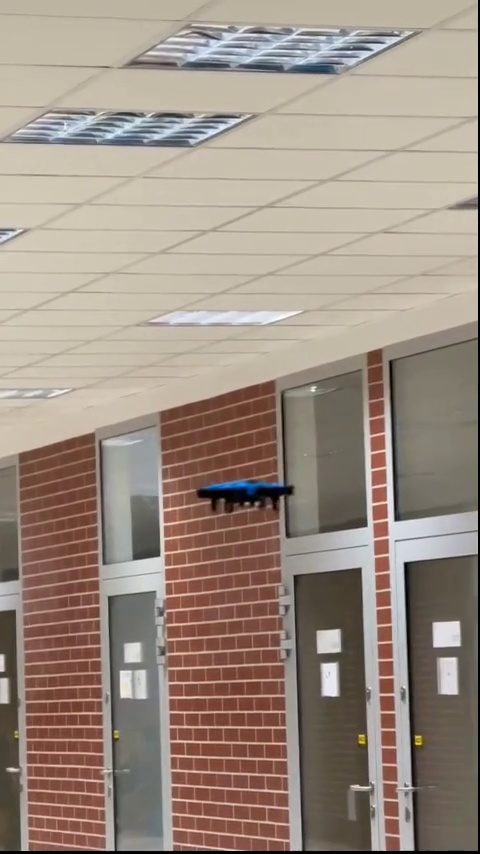drone: (198, 477, 291, 512)
